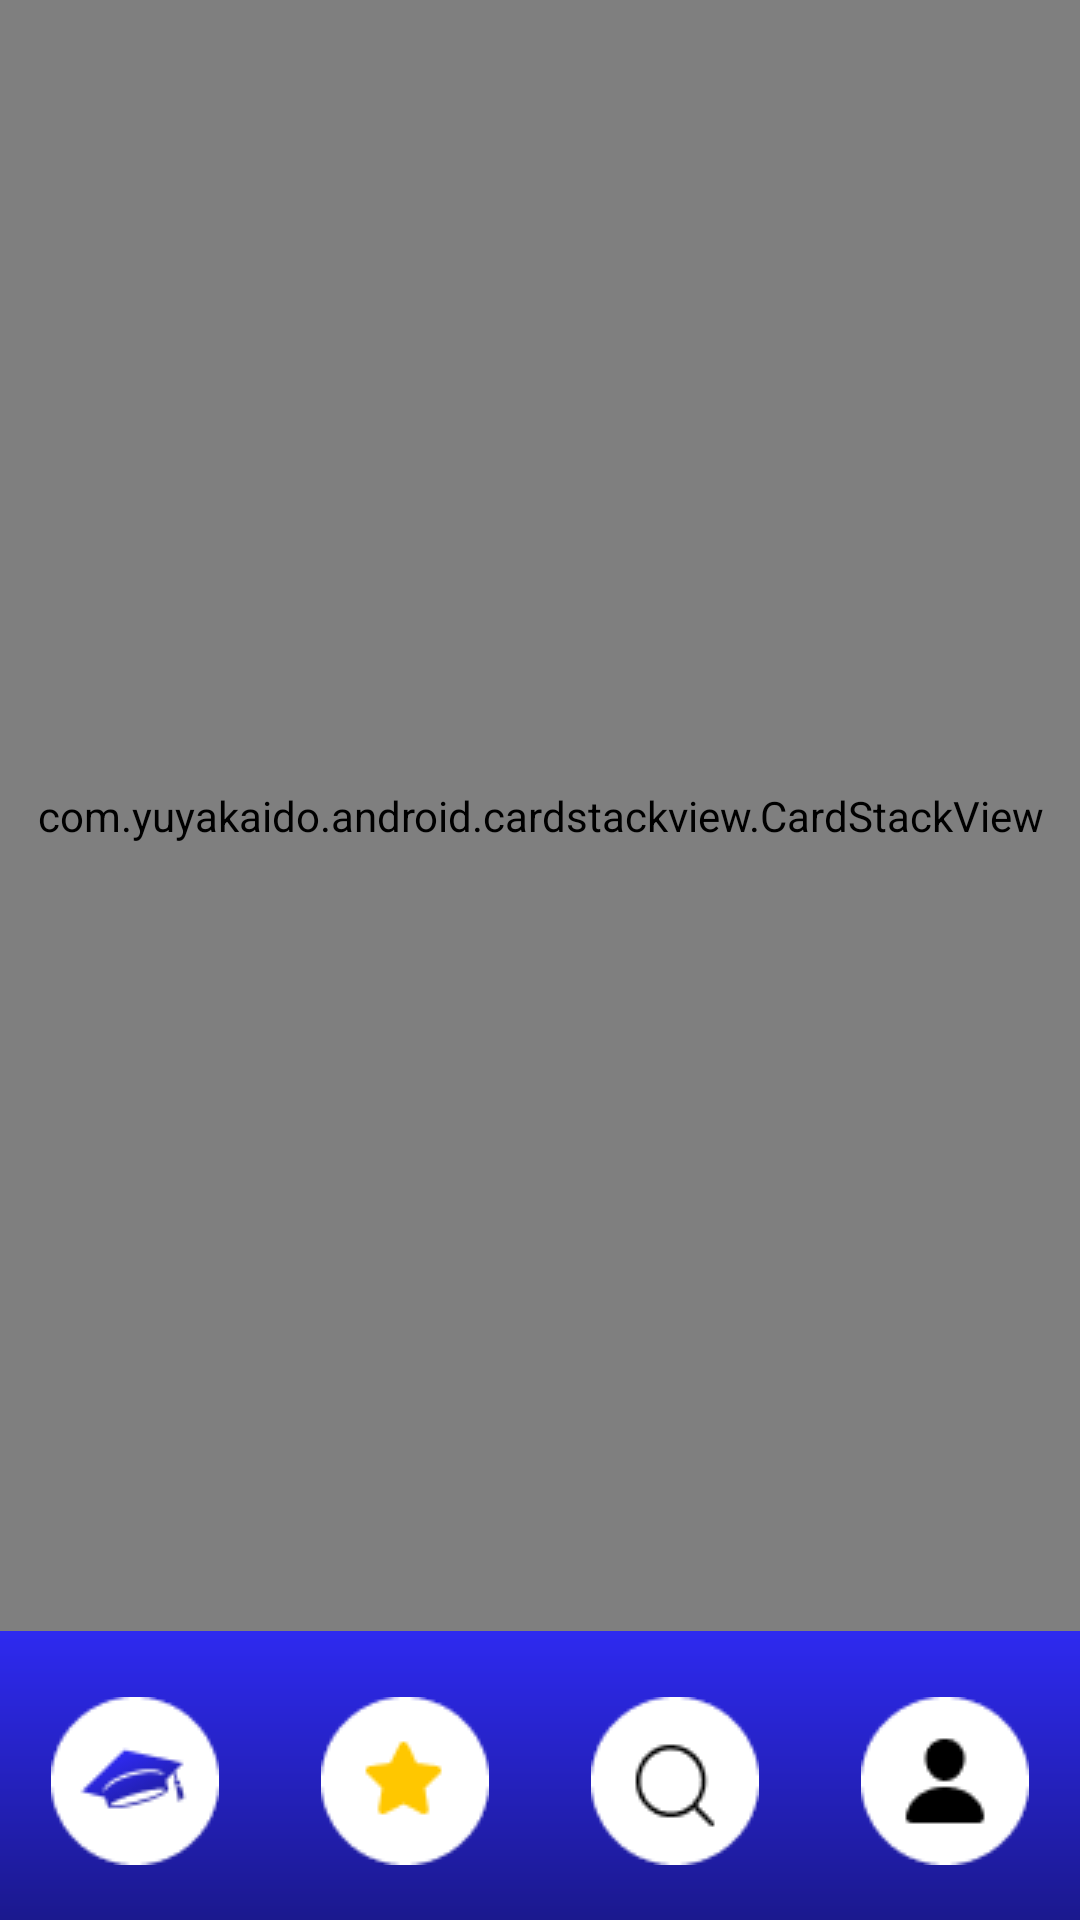

Screen size 1080 × 1920. Icon name, then its center in pixels as point (x, y):
search: point (675, 1781)
star: point (405, 1781)
user: point (945, 1781)
